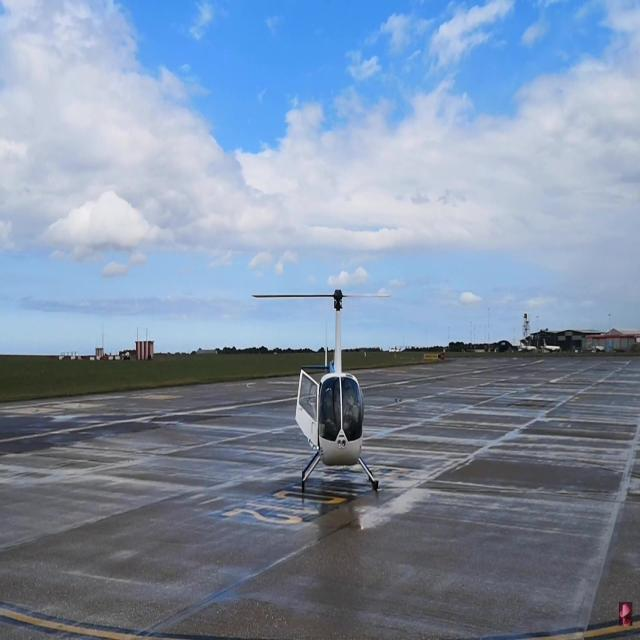CIV_HELO: (294, 288, 381, 496)
